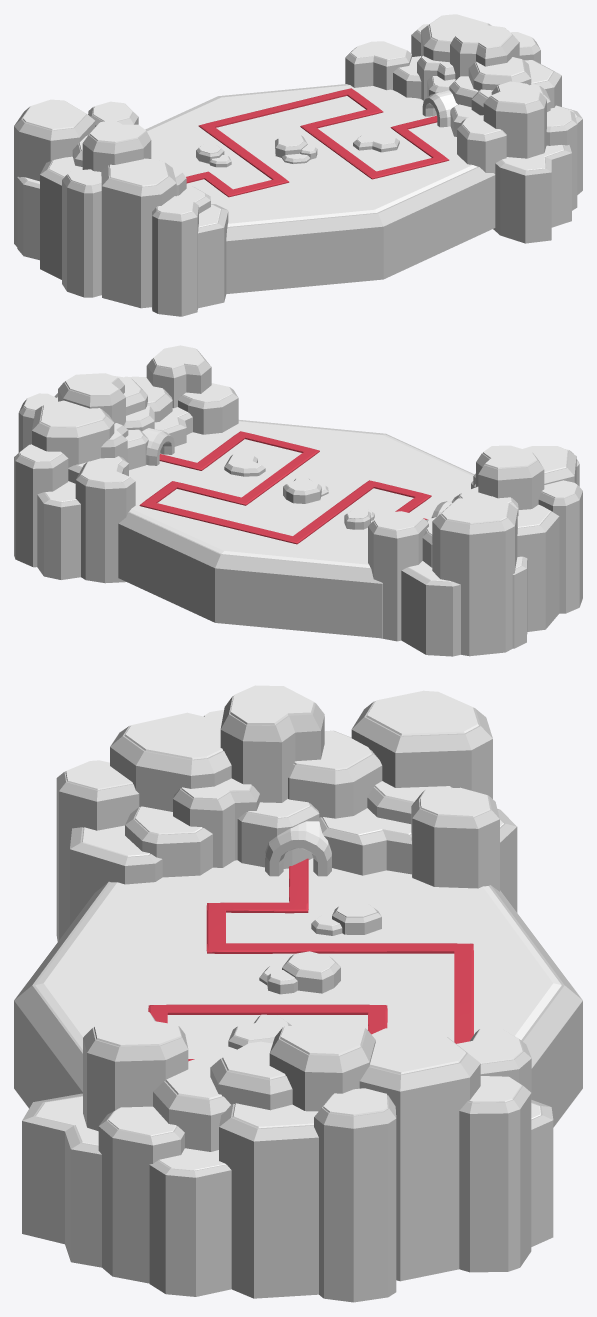
The model's file is MAPA_1.fbx.
The picture shows the model from 3 angles, top to bottom: view 1: azimuth 30°, elevation 25°; view 2: azimuth 150°, elevation 25°; view 3: azimuth 270°, elevation 25°; orthographic projection. The views are drawn at different scales.
Parts seen in each view (by area): view 1: MAP1, MAP1.Ground, MAP1.Path_Red; view 2: MAP1, MAP1.Ground, MAP1.Path_Red; view 3: MAP1, MAP1.Ground, MAP1.Path_Red, MAP1.Sniper.006.
Part boxes in pixels (x1=…): MAP1: x1=14, y1=14, x2=582, y2=316; MAP1.Ground: x1=146, y1=84, x2=477, y2=226; MAP1.Path_Red: x1=186, y1=88, x2=449, y2=197; MAP1: x1=14, y1=345, x2=582, y2=656; MAP1.Ground: x1=129, y1=420, x2=473, y2=568; MAP1.Path_Red: x1=139, y1=431, x2=431, y2=544; MAP1: x1=14, y1=685, x2=582, y2=1302; MAP1.Ground: x1=35, y1=858, x2=561, y2=1058; MAP1.Path_Red: x1=148, y1=858, x2=473, y2=1061; MAP1.Sniper.006: x1=234, y1=1014, x2=288, y2=1040.
Size of the model in its own units: 14172 by 4279 by 8327.
